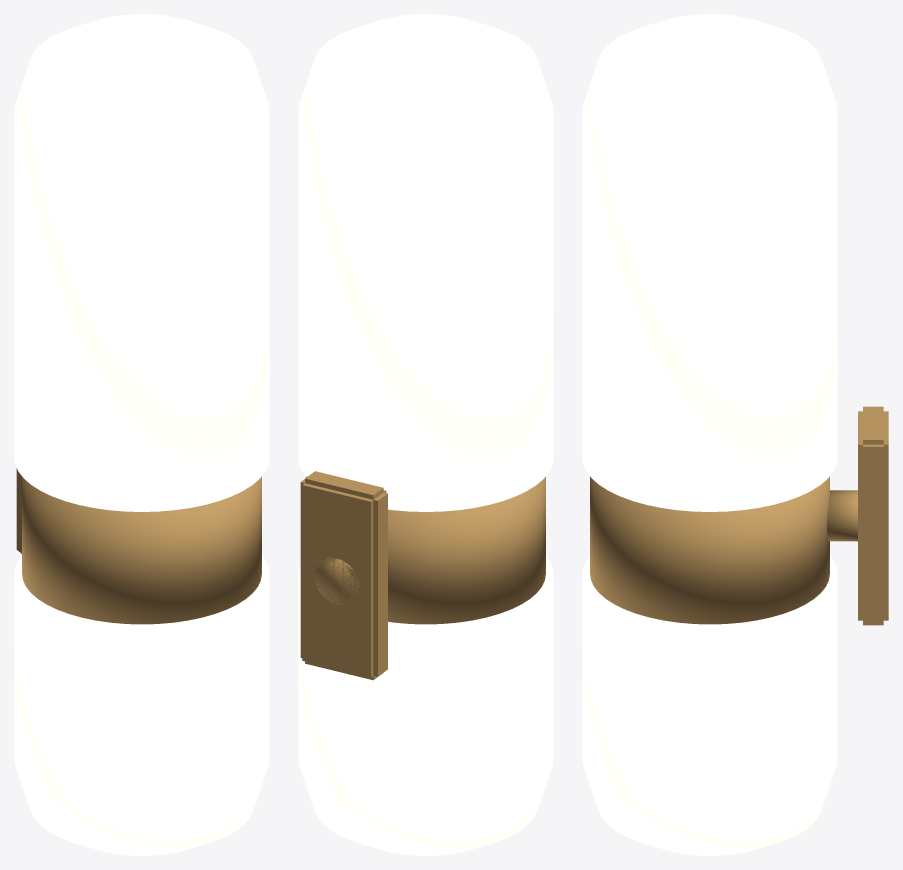
3 renders of one model, left to right at view 1: azimuth 30°, elevation 25°; view 2: azimuth 150°, elevation 25°; view 3: azimuth 270°, elevation 25°, orthographic.
Parts seen in each view (by area): view 1: void-cloud-cl03; view 2: void-cloud-cl03; view 3: void-cloud-cl03.
Boxes of the visible parts, bbox=[...] form: void-cloud-cl03: bbox=[14, 14, 269, 855]; void-cloud-cl03: bbox=[298, 14, 553, 855]; void-cloud-cl03: bbox=[582, 14, 888, 855].
Size of the model in its own units: 0.1 by 0.34 by 0.12.
